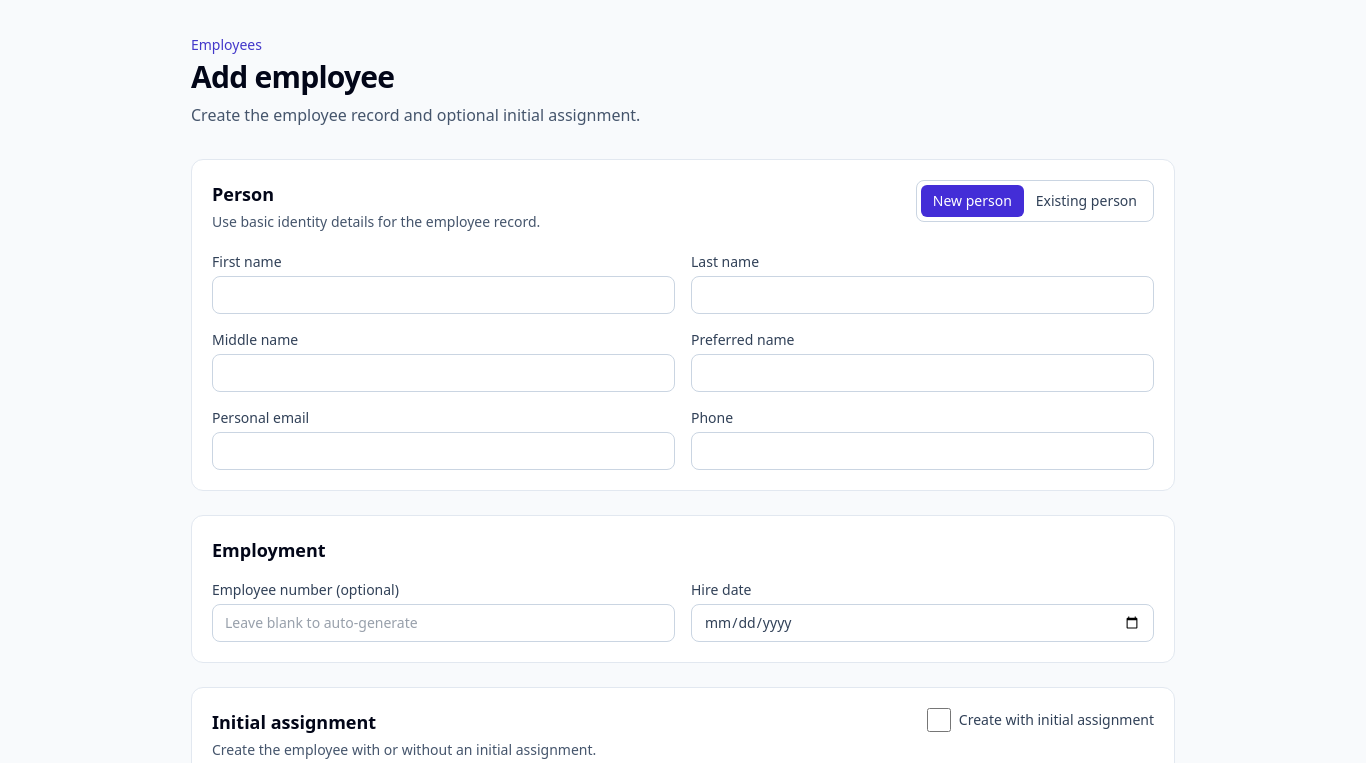
Test: EmployeeOnboardingPage › loads more option pages
Click the checkbox labelled "Create with initial assignment": (939, 720) [927,708,951,732]
(page scrolled)
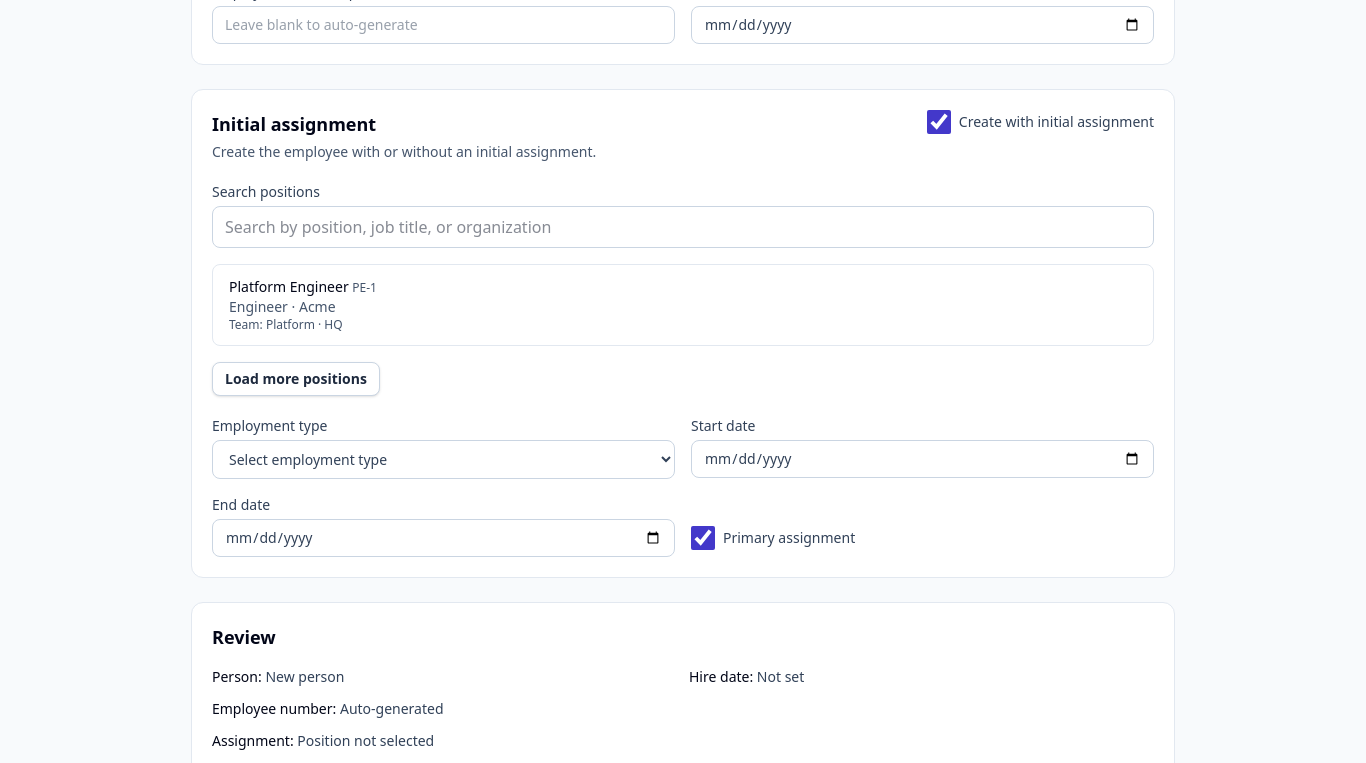
Expected: the button "Load more positions" is shown
Click the button "Load more positions": (296, 379) [212,362,380,396]
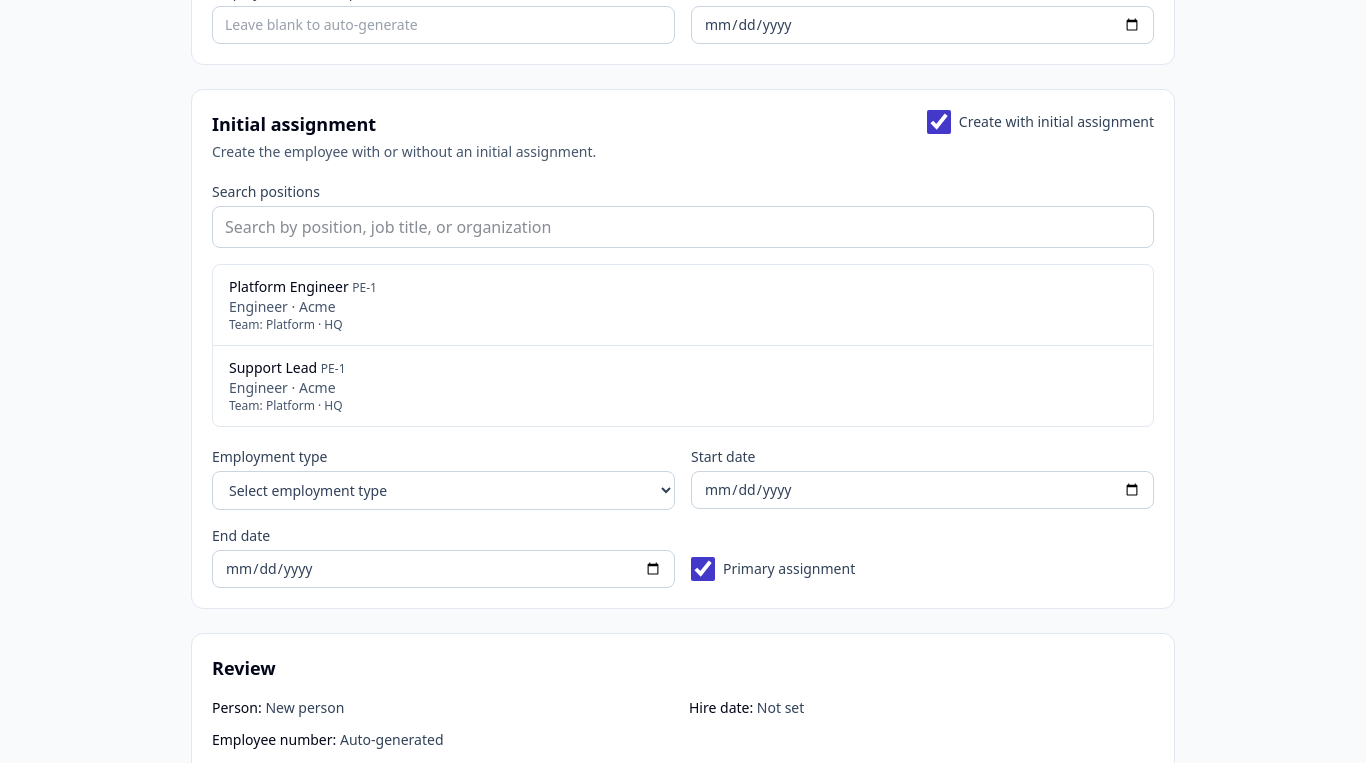
Expected: the button "Support Lead PE-1 Engineer · Acme Team: Platform · HQ" is shown, [213,346,1153,426]
